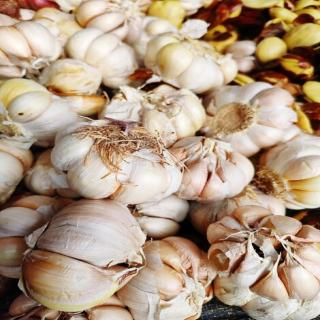Bawang Putih: (52, 117, 181, 206)
